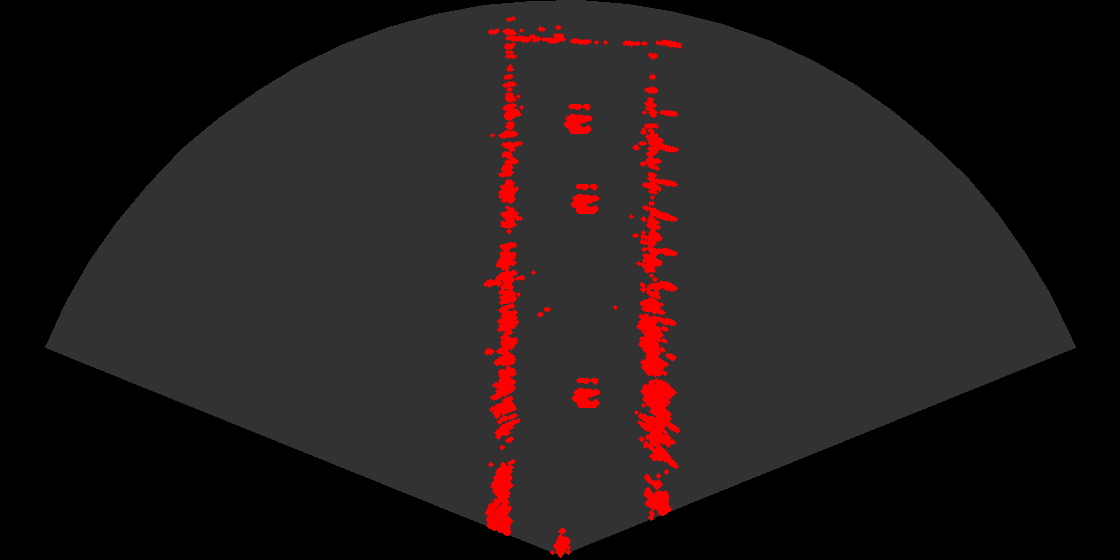ball: (552, 370, 612, 411), (544, 96, 604, 137), (551, 176, 611, 217)
